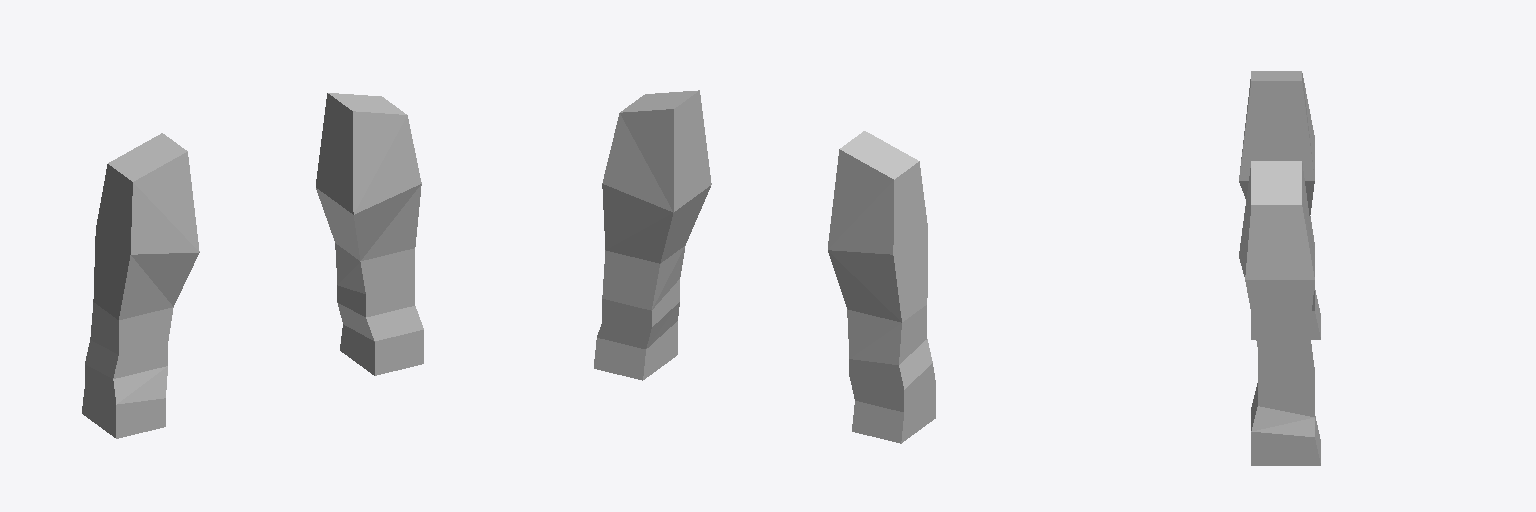
The model's file is arms.obj.
The picture shows the model from 3 angles: view 1: azimuth 30°, elevation 25°; view 2: azimuth 150°, elevation 25°; view 3: azimuth 270°, elevation 25°; orthographic projection.
Bounding box in the file's own units: 0.56 × 0.47 × 0.13.